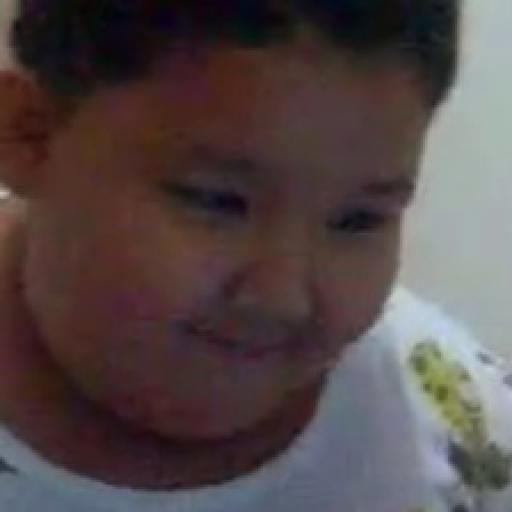Autism: (0, 0, 484, 443)
